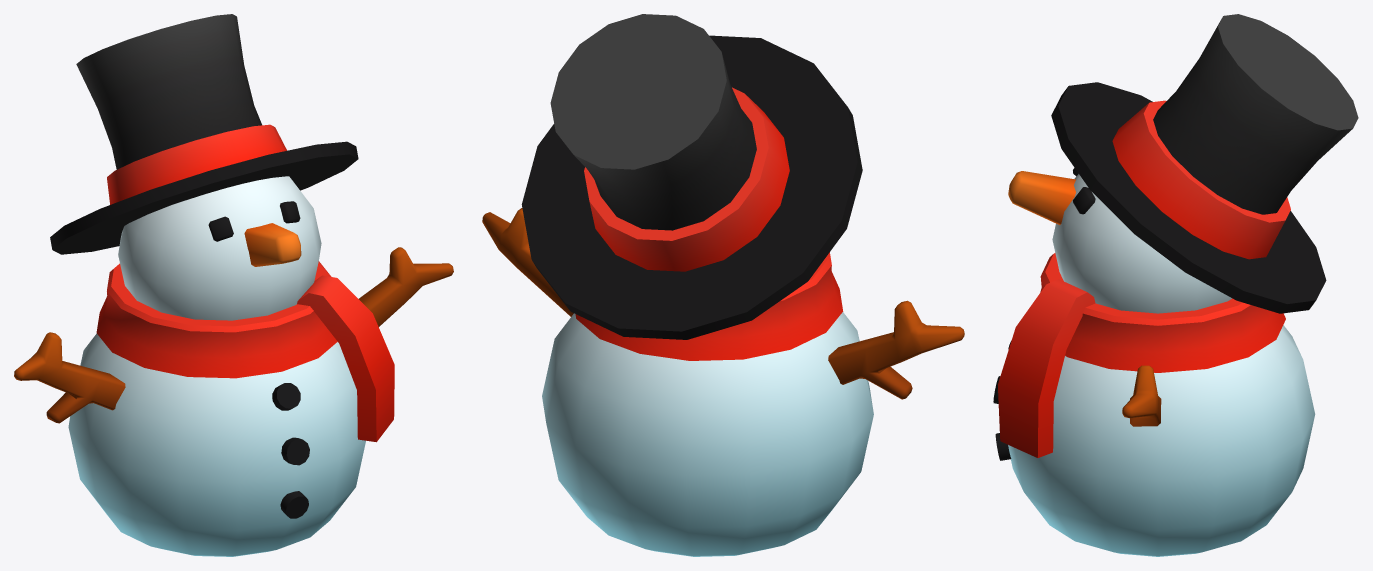
The model's file is Props_Snowman_01.fbx.
3 renders of one model, left to right at view 1: azimuth 30°, elevation 25°; view 2: azimuth 150°, elevation 25°; view 3: azimuth 270°, elevation 25°, orthographic. The views are drawn at different scales.
Visible parts, largest first — view 1: Props_Snowman_01; view 2: Props_Snowman_01; view 3: Props_Snowman_01.
Part boxes in pixels (x1,y1,x2,y2): Props_Snowman_01: (14, 14, 453, 556); Props_Snowman_01: (482, 14, 964, 556); Props_Snowman_01: (993, 14, 1358, 556).
Bounding box in the file's own units: 165 × 171 × 116.
